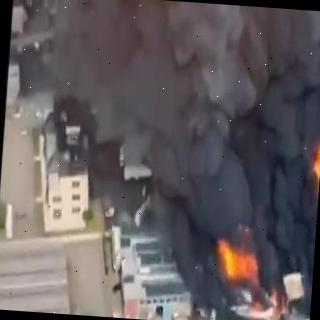smoke: (24, 0, 320, 214), (253, 215, 316, 309)
